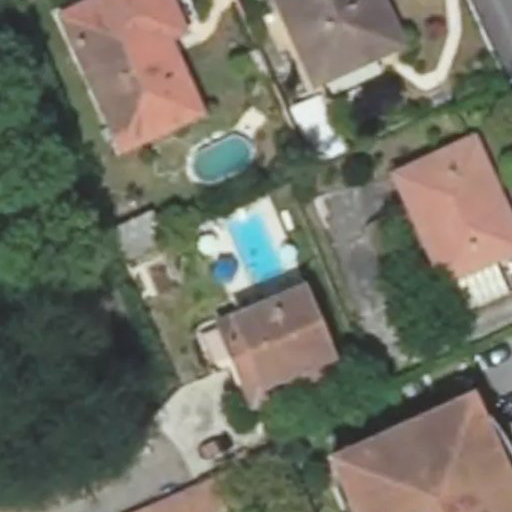pool: (226, 212, 281, 285), (191, 137, 251, 183)
